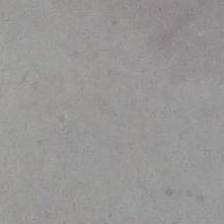Non_Crack: (30, 18, 197, 199)
